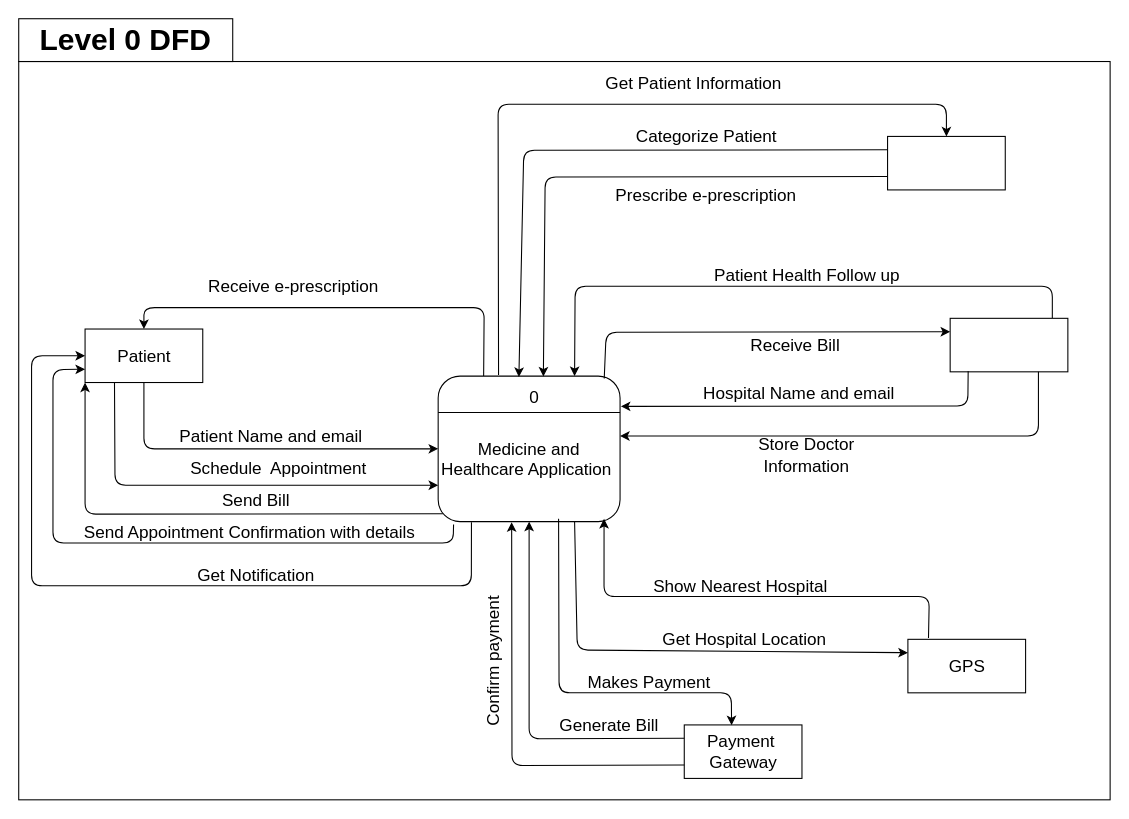
This 1129x819 diagram has some shape labels left out. The centre of each missing label's shape, as x and y in pixels:
Doctor: the point at 945,162
Hospital: the point at 1008,344
